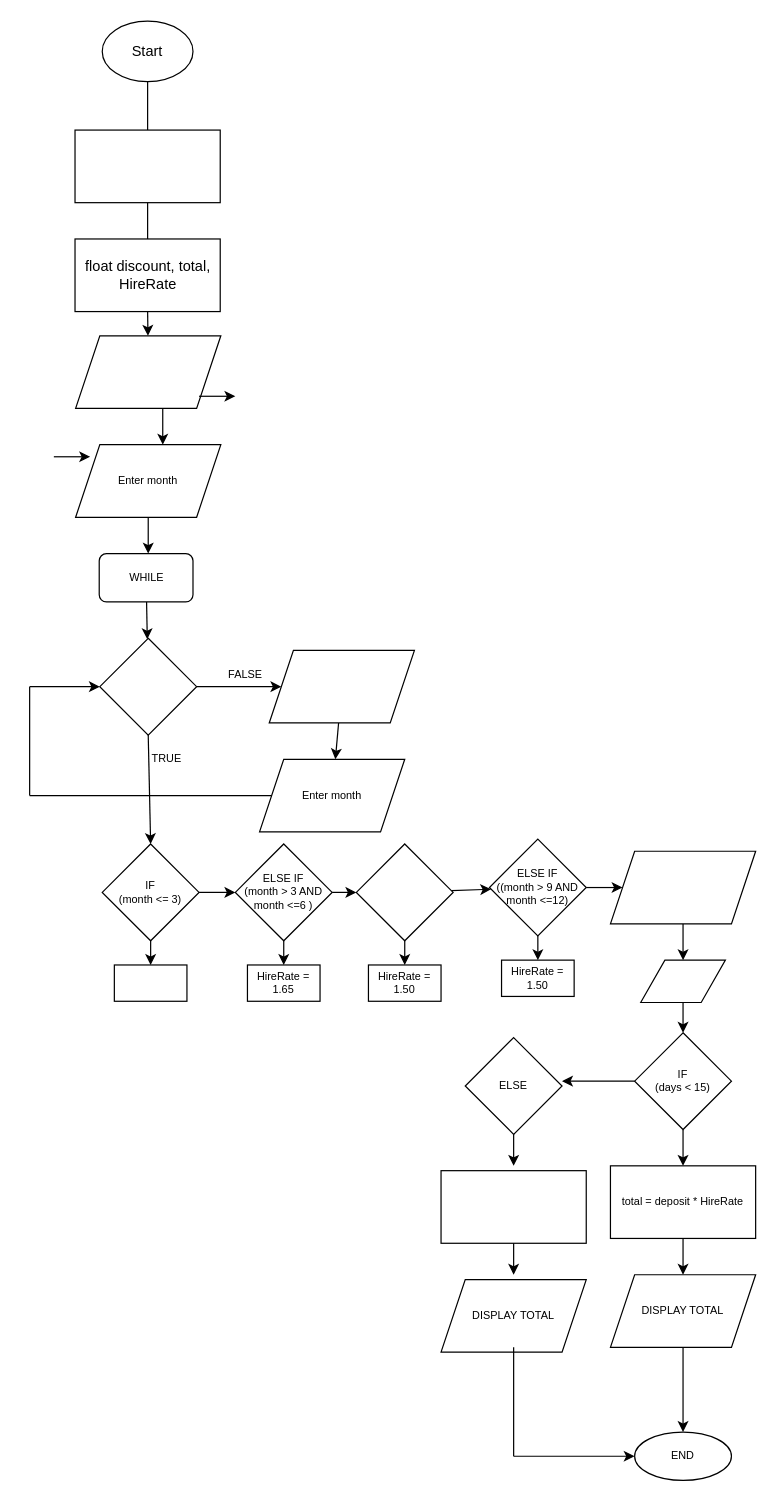
This 777x1502 diagram has some shape labels left out. The shapes that lost their labels are listed below. From the top down, each one's box as (x1, y1, x2, y2) in pixels, then its label:
(74, 129, 220, 203): int month, days, deposit
(74, 335, 221, 408): Input today's month by entering a value from 1-12
(99, 637, 197, 735): IS (month <1 OR month >12)
(268, 649, 414, 723): Enter value from 1-12
(355, 843, 453, 941): ELSE IF (month > 6 AND month <= 9)
(609, 850, 756, 924): Enter the number of days for hire =
(113, 964, 187, 1001): HireRate = 1.75
(639, 959, 725, 1002): Enter days
(440, 1169, 586, 1243): total = deposit * HireRate * discount
